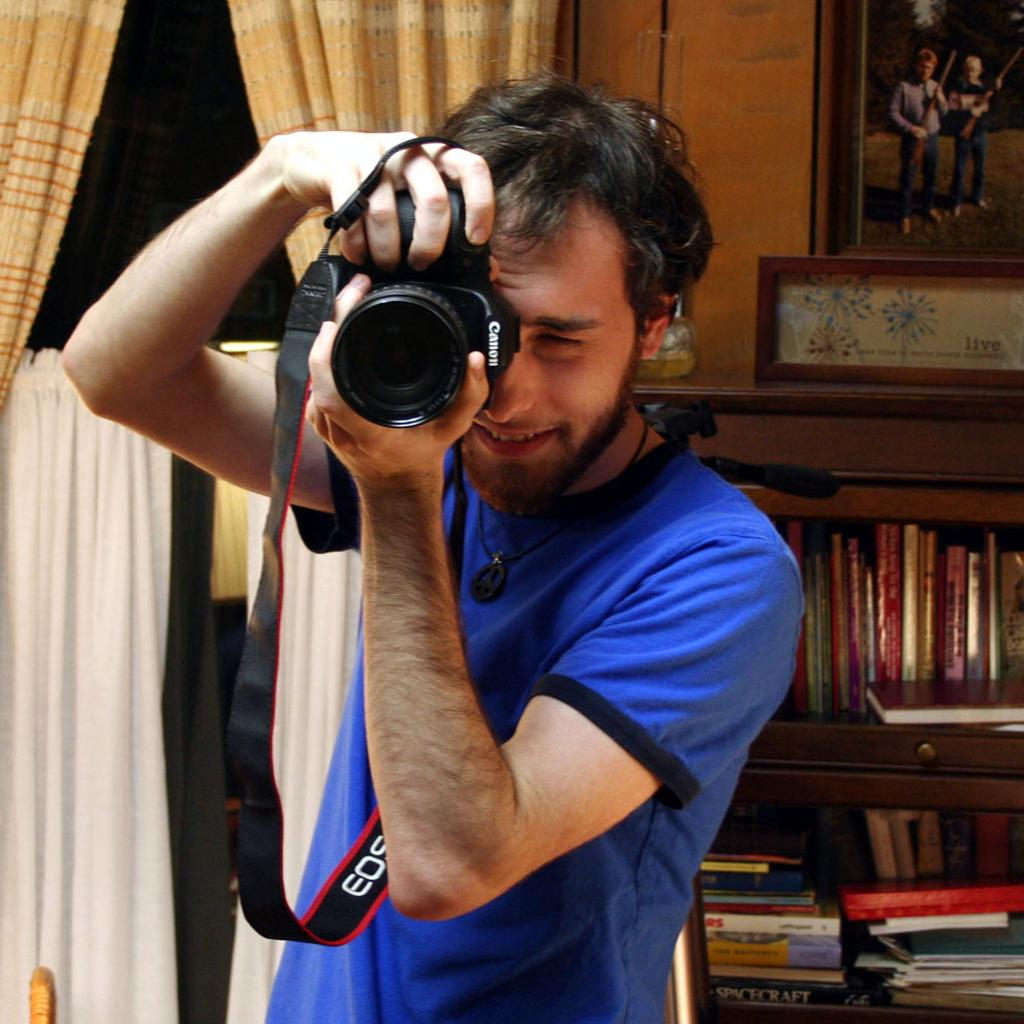face: (440, 206, 626, 516)
